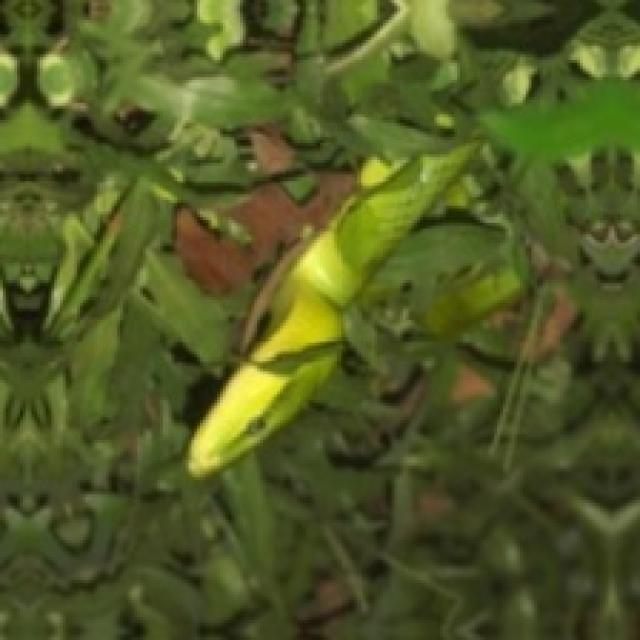red-tailed green ratsnake: (189, 143, 474, 474)
